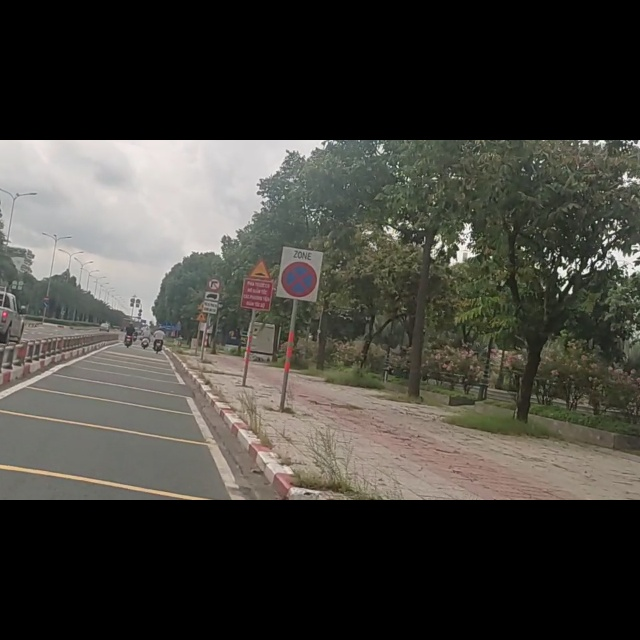bien_cam: (279, 188, 320, 284), (247, 209, 272, 250), (203, 267, 219, 309), (206, 243, 221, 268)
